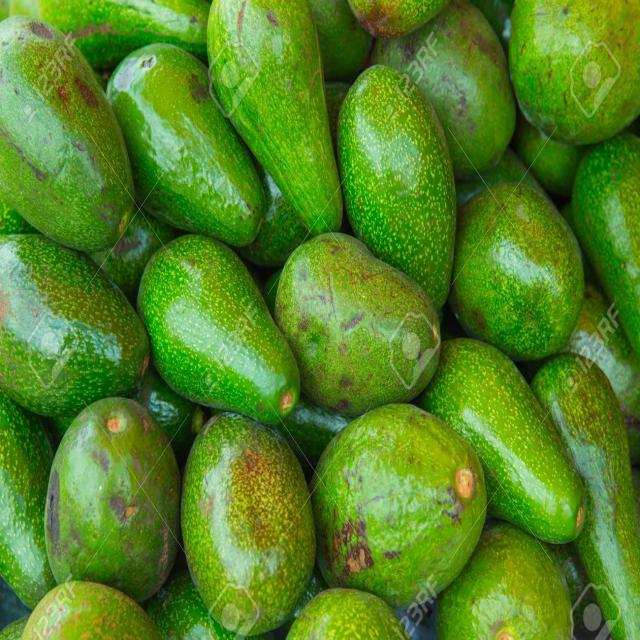aguacate: (131, 213, 302, 431)
